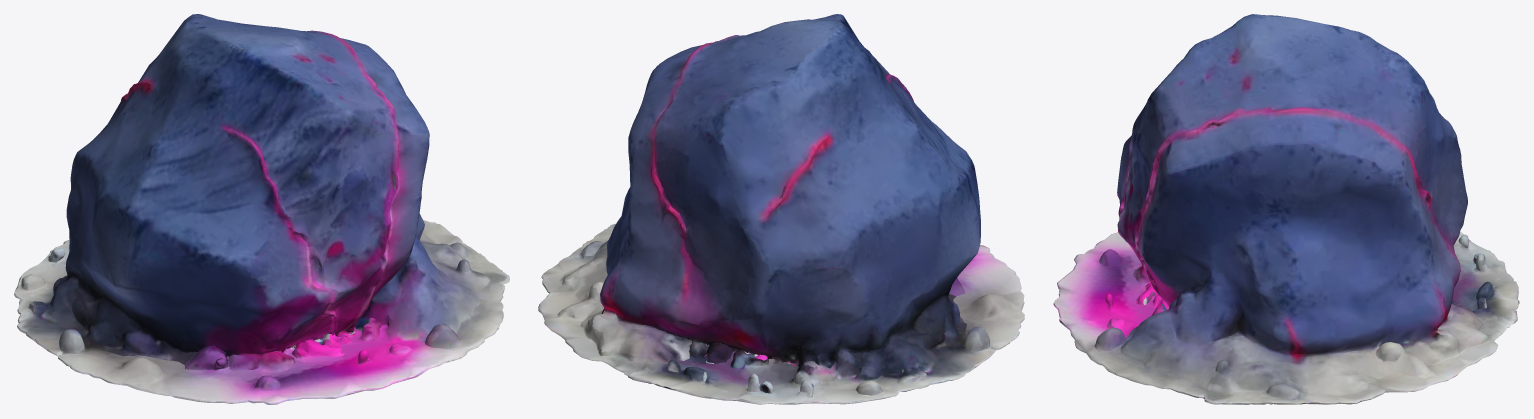
Rendered from shore-stone-5-generated-2026-05-17T20-04-49-387Z.low.glb.
The picture shows the model from 3 angles, left to right: view 1: azimuth 30°, elevation 25°; view 2: azimuth 150°, elevation 25°; view 3: azimuth 270°, elevation 25°; orthographic projection. The views are drawn at different scales.
Visible parts, largest first — view 1: temp_mesh.ply; view 2: temp_mesh.ply; view 3: temp_mesh.ply.
Boxes of the visible parts, box(x1,y1,x2,y2) form: temp_mesh.ply: box(14, 14, 509, 404); temp_mesh.ply: box(538, 14, 1024, 404); temp_mesh.ply: box(1053, 14, 1519, 404).
Bounding box in the file's own units: 1.97 × 1.24 × 1.92.
Materials: 1 (1 with a texture image).
